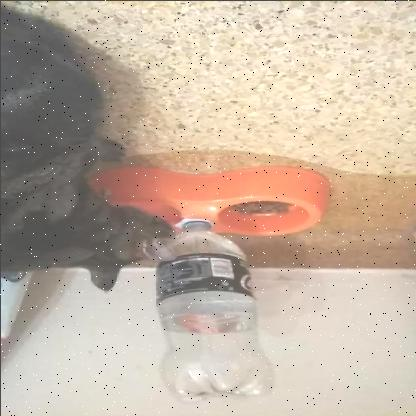Plastic Bottle: (155, 219, 272, 400)
